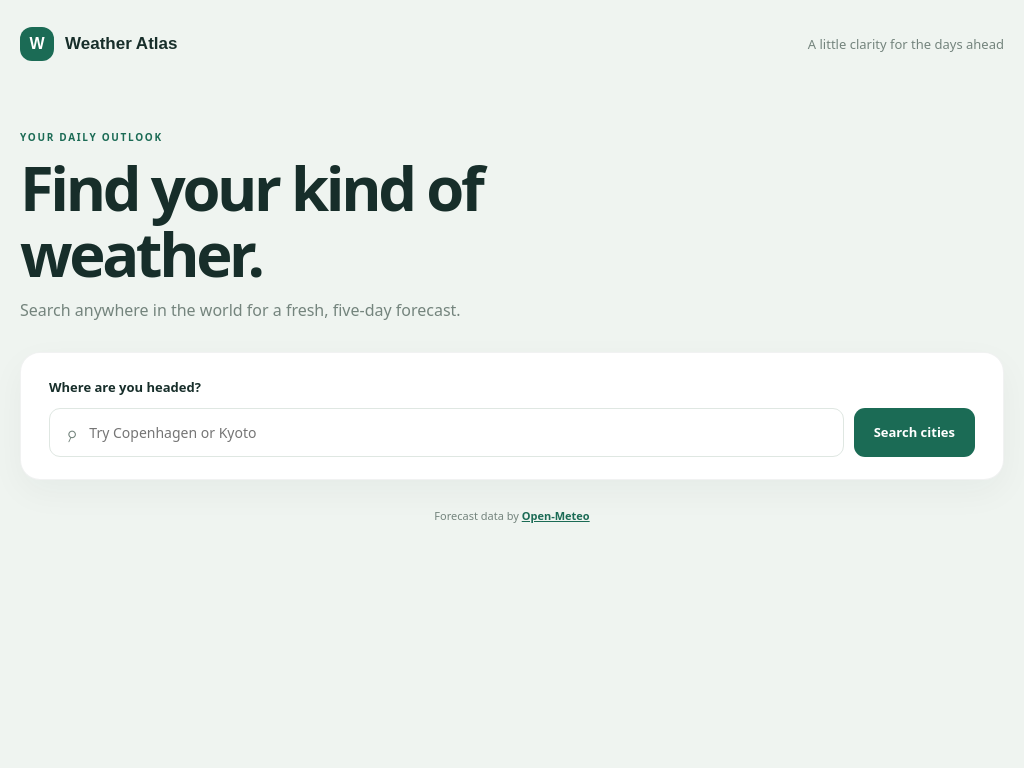
Scenario: Weather Atlas › shows a helpful message when a search has no results
The image size is (1024, 768).
Type "Nowhere" into the field labelled "Where are you headed?".
click(457, 432); type("Nowhere")  # box [87, 422, 828, 443]
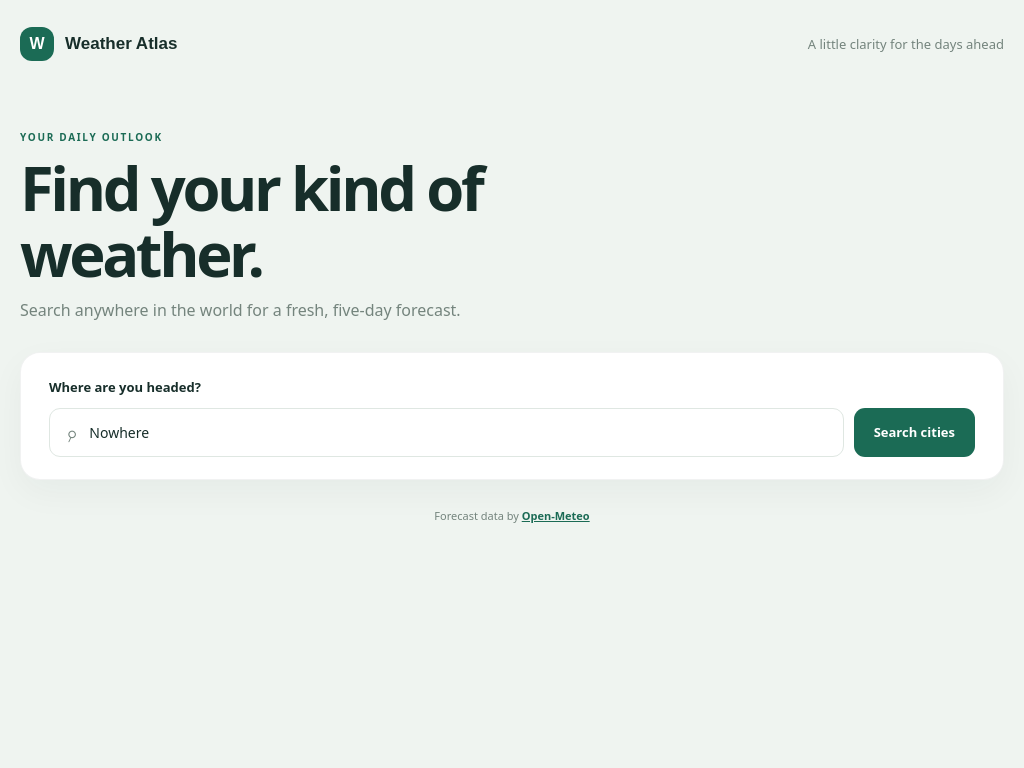
Click the button "Search cities".
click(914, 432)  # box [854, 408, 975, 457]
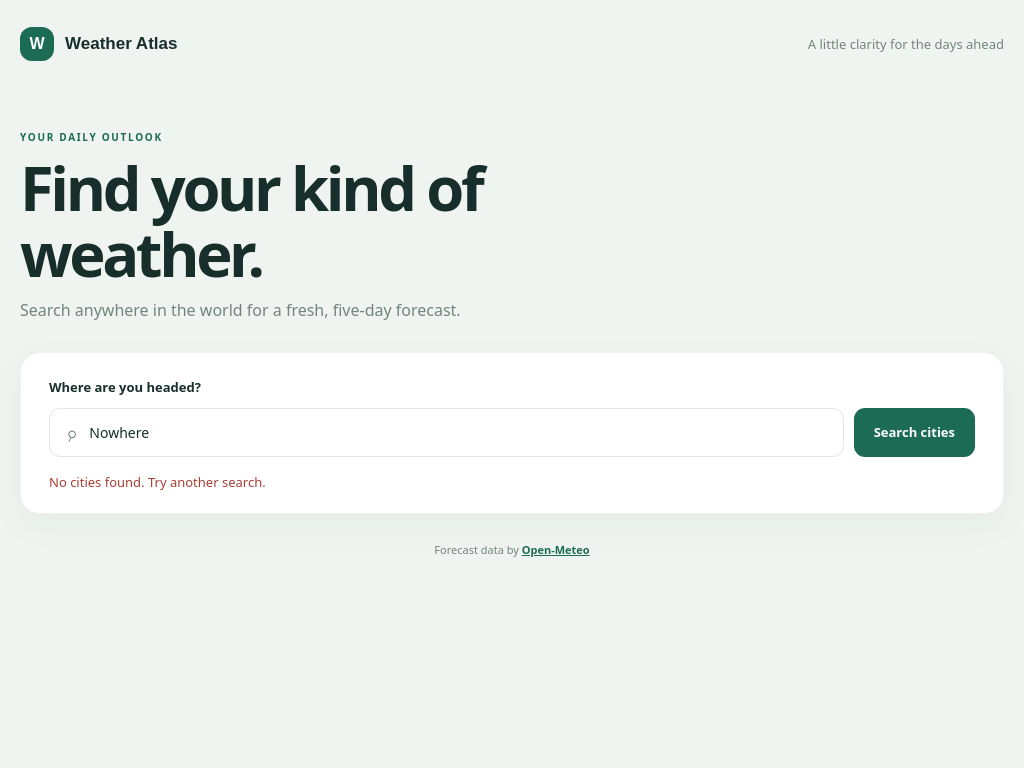
Now the message shows "No cities found", box [49, 473, 266, 491]
